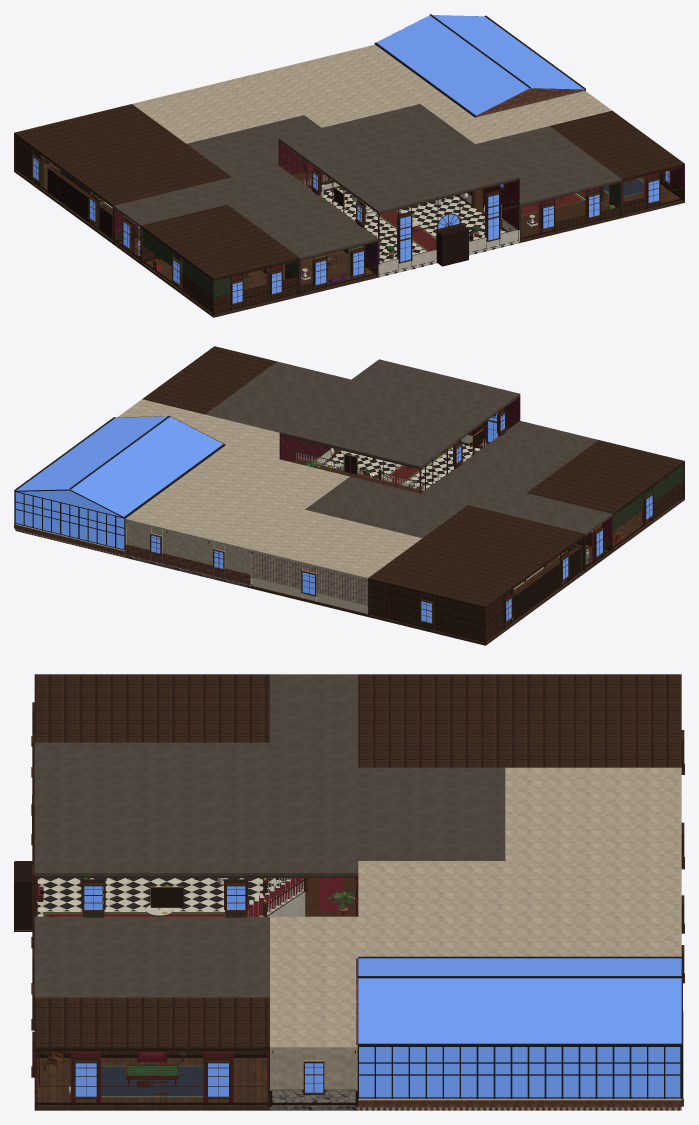
Rendered from manor.glb.
3 renders of one model, top to bottom at view 1: azimuth 30°, elevation 25°; view 2: azimuth 150°, elevation 25°; view 3: azimuth 270°, elevation 25°, orthographic. The views are drawn at different scales.
Parts seen in each view (by area): view 1: S_0_m1, S_1_m1, S_m2_m1, S_m2_0, S_1_0, S_m1_m1, S_m1_1, S_0_0, S_0_1, S_m1_0, S_0_m2, S_m1_m2 (+8 smaller); view 2: S_0_m1, S_m2_0, S_1_m1, S_1_0, S_m2_m1, S_m1_1, S_0_1, S_0_0, S_m1_m1, S_m1_0, S_1_1, S_m2_1 (+5 smaller); view 3: S_1_m1, S_0_m1, S_1_0, S_m2_0, S_m2_m1, S_0_0, S_2_0, S_m1_1, S_m1_0, S_0_1, S_2_m1, S_m1_m1 (+7 smaller).
Boxes of the visible parts, <box> form: S_0_m1: <box>278,104,519,277</box>; S_1_m1: <box>448,91,684,242</box>; S_m2_m1: <box>113,165,305,317</box>; S_m2_0: <box>14,104,230,244</box>; S_1_0: <box>374,14,585,117</box>; S_m1_m1: <box>228,140,378,296</box>; S_m1_1: <box>132,75,303,143</box>; S_0_0: <box>286,71,474,127</box>; S_0_1: <box>250,44,410,101</box>; S_m1_0: <box>186,115,321,189</box>; S_0_m2: <box>376,179,555,252</box>; S_m1_m2: <box>325,189,437,287</box>; S_0_m1: <box>279,359,520,493</box>; S_m2_0: <box>368,505,585,645</box>; S_1_m1: <box>117,346,350,459</box>; S_1_0: <box>14,415,225,557</box>; S_m2_m1: <box>421,440,684,572</box>; S_m1_1: <box>250,509,421,616</box>; S_0_1: <box>125,492,285,587</box>; S_0_0: <box>162,446,349,522</box>; S_m1_m1: <box>351,421,597,493</box>; S_m1_0: <box>305,476,467,538</box>; S_1_1: <box>14,491,151,560</box>; S_m2_1: <box>366,580,486,642</box>; S_1_m1: <box>34,916,358,1110</box>; S_0_m1: <box>14,761,358,931</box>; S_1_0: <box>356,956,682,1110</box>; S_m2_0: <box>358,674,681,767</box>; S_m2_m1: <box>34,674,358,760</box>; S_0_0: <box>358,861,563,956</box>; S_2_0: <box>357,1046,681,1107</box>; S_m1_1: <box>505,767,681,860</box>; S_m1_0: <box>358,767,505,860</box>; S_0_1: <box>564,861,681,956</box>; S_2_m1: <box>98,1050,355,1106</box>; S_m1_m1: <box>34,742,269,760</box>.
Size of the model in its own units: 60.44 by 8.05 by 45.63.
91 materials, 30 textured.
